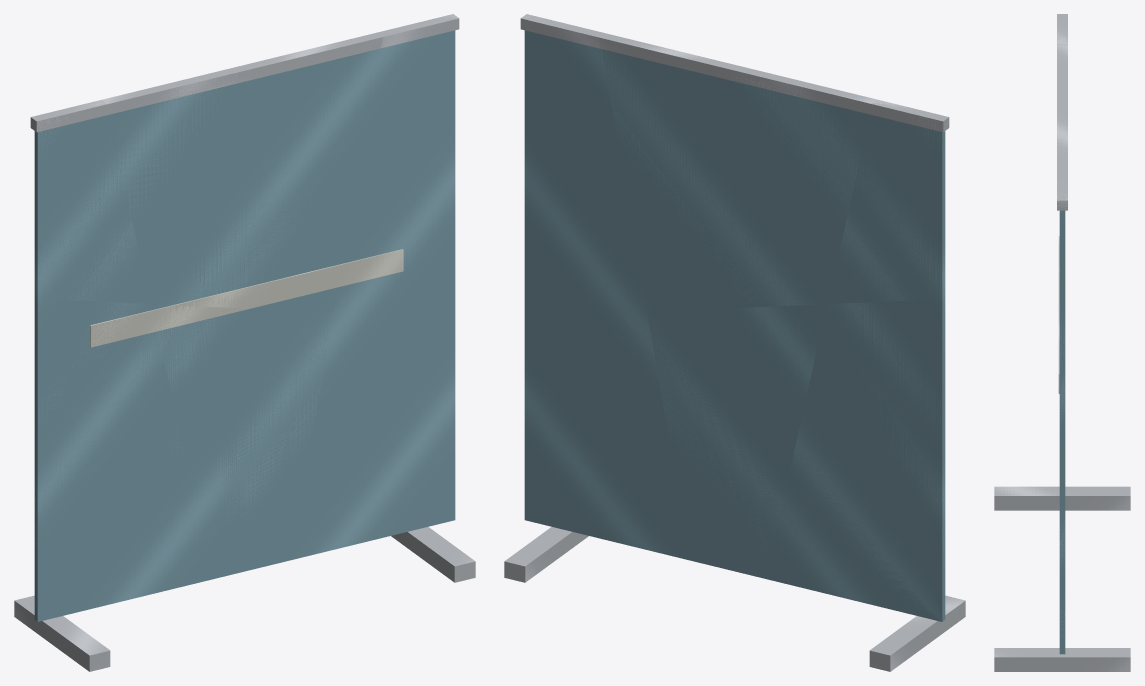
The model's file is divisoria_vidro.glb.
3 views of the same model, side by side, from view 1: azimuth 30°, elevation 25°; view 2: azimuth 150°, elevation 25°; view 3: azimuth 270°, elevation 25° (orthographic). The views are drawn at different scales.
Visible parts, largest first — view 1: Inteiro, Peca_02, Peca_03, Peca_04, Peca_01, Peca_00, Peca_05; view 2: Inteiro, Peca_03, Peca_00, Peca_04, Peca_02, Peca_05, Peca_01; view 3: Inteiro, Peca_05, Peca_03, Peca_04.
Part boxes in pixels (box(x1,y1,x2,y2)): Inteiro: box(14, 14, 475, 671); Peca_02: box(151, 304, 330, 568); Peca_03: box(103, 33, 382, 311); Peca_04: box(291, 315, 454, 559); Peca_01: box(33, 100, 150, 303); Peca_00: box(34, 297, 182, 621); Peca_05: box(334, 14, 457, 314); Inteiro: box(504, 14, 965, 671); Peca_03: box(599, 32, 879, 308); Peca_00: box(768, 297, 945, 621); Peca_04: box(524, 312, 689, 560); Peca_02: box(647, 304, 827, 574); Peca_05: box(520, 14, 642, 317); Peca_01: box(827, 100, 947, 304); Inteiro: box(994, 14, 1130, 671); Peca_05: box(1057, 166, 1067, 470); Peca_03: box(1057, 44, 1067, 347); Peca_04: box(1059, 470, 1065, 653).
Bounding box in the file's own units: 1.62 × 1.94 × 0.5.
Materials: 1 (1 with a texture image).
